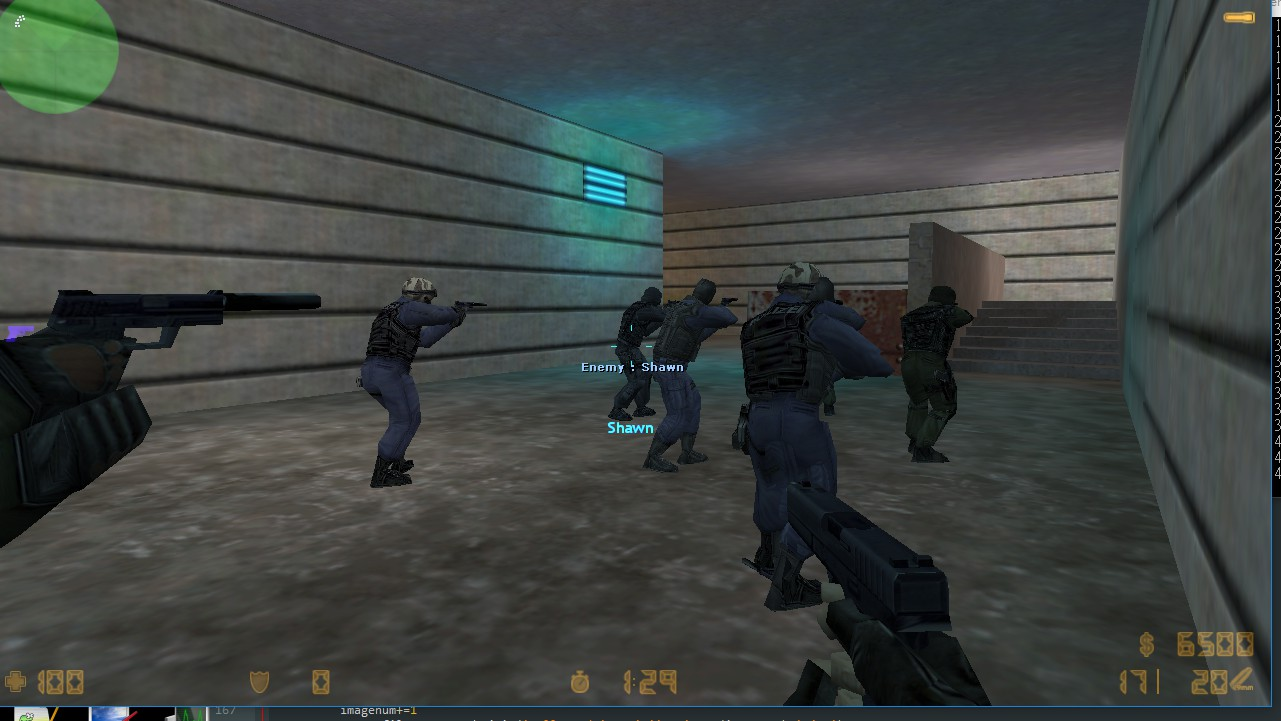person: (730, 254, 887, 618), (349, 271, 465, 499), (641, 276, 739, 477), (900, 279, 979, 474), (611, 279, 669, 422)
